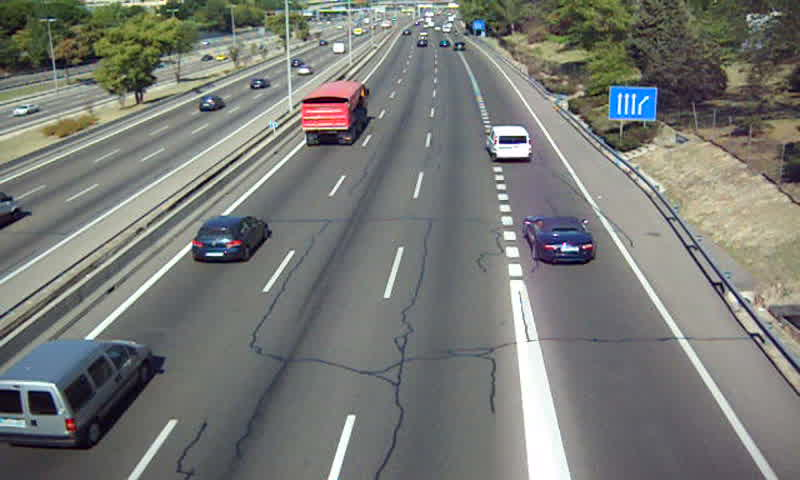car: (526, 218, 596, 265), (193, 217, 266, 262)
truck: (302, 82, 367, 143)
van: (1, 339, 150, 447), (486, 126, 531, 161)
